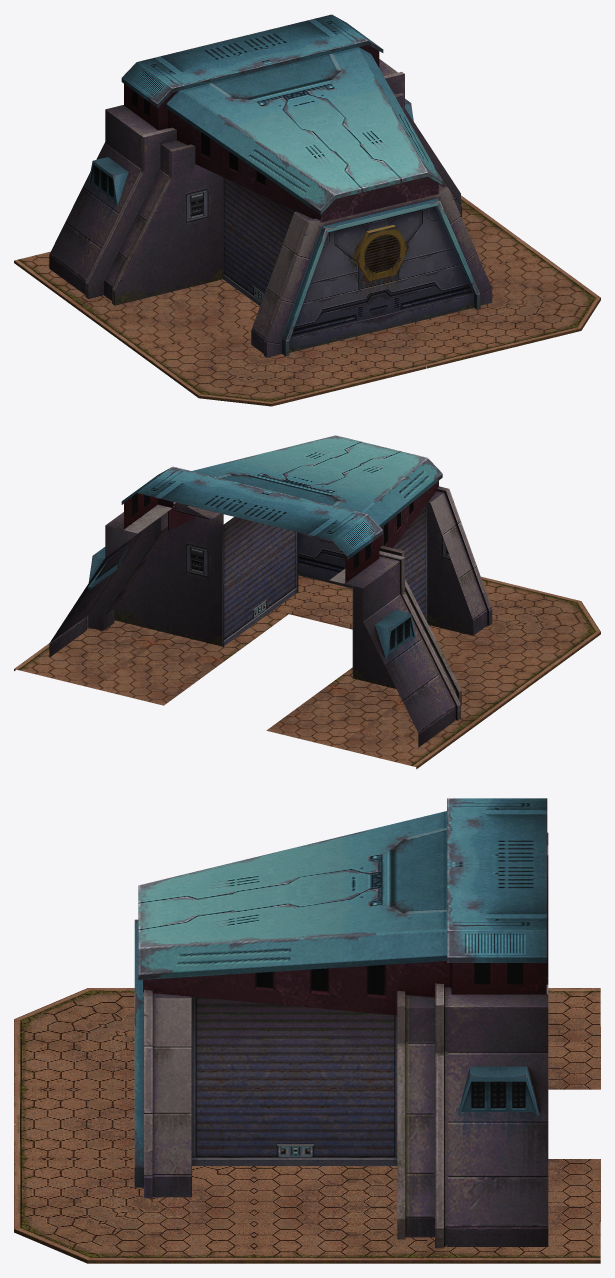
Rendered from yw_huanghunbianjing_zhujian02.FBX.
3 renders of one model, top to bottom at view 1: azimuth 30°, elevation 25°; view 2: azimuth 150°, elevation 25°; view 3: azimuth 270°, elevation 25°, orthographic. The views are drawn at different scales.
Parts seen in each view (by area): view 1: yw_huanghunbianjing_zhujian02; view 2: yw_huanghunbianjing_zhujian02; view 3: yw_huanghunbianjing_zhujian02.
Boxes of the visible parts, box(x1,y1,x2,y2) form: yw_huanghunbianjing_zhujian02: box(14, 14, 600, 406); yw_huanghunbianjing_zhujian02: box(14, 435, 600, 769); yw_huanghunbianjing_zhujian02: box(14, 798, 600, 1263).
Size of the model in its own units: 743 by 335 by 677.
1 material, 1 textured.
